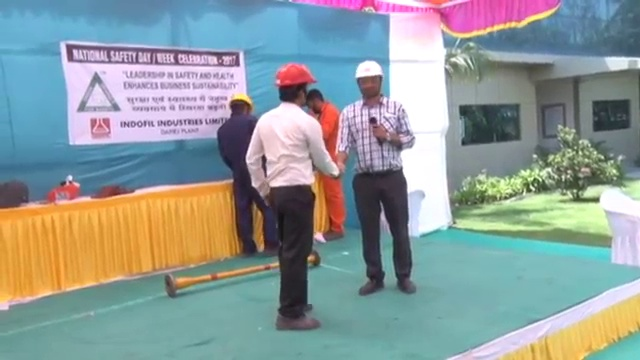helmet: (273, 62, 318, 85), (354, 58, 385, 79), (229, 92, 253, 110)
helmet_off: (305, 87, 326, 115)
helmet_on: (273, 61, 319, 109), (354, 56, 386, 104), (228, 91, 254, 117)
person: (246, 60, 340, 332), (336, 58, 417, 296), (217, 91, 280, 257), (303, 86, 346, 241)
